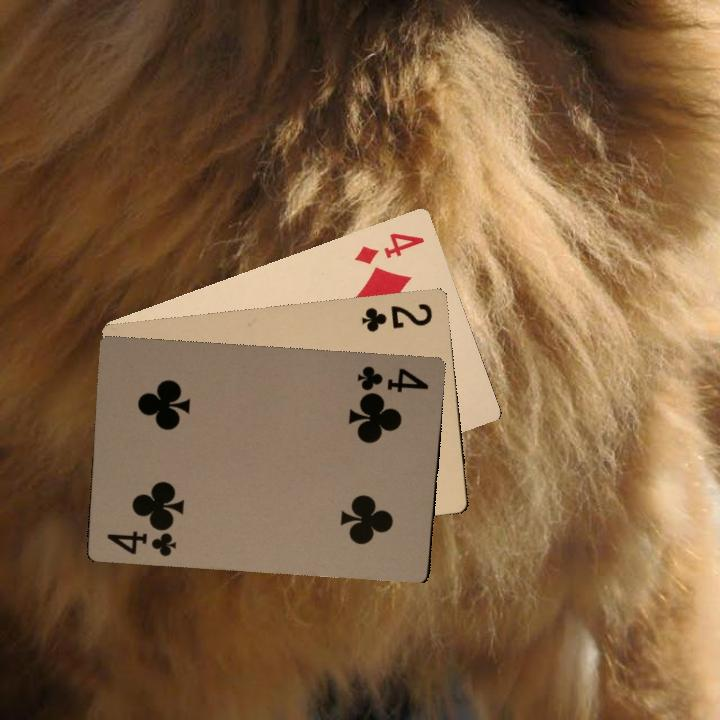2c: (357, 299, 435, 335)
4c: (103, 521, 179, 559), (353, 362, 431, 396)
4d: (350, 228, 427, 268)
